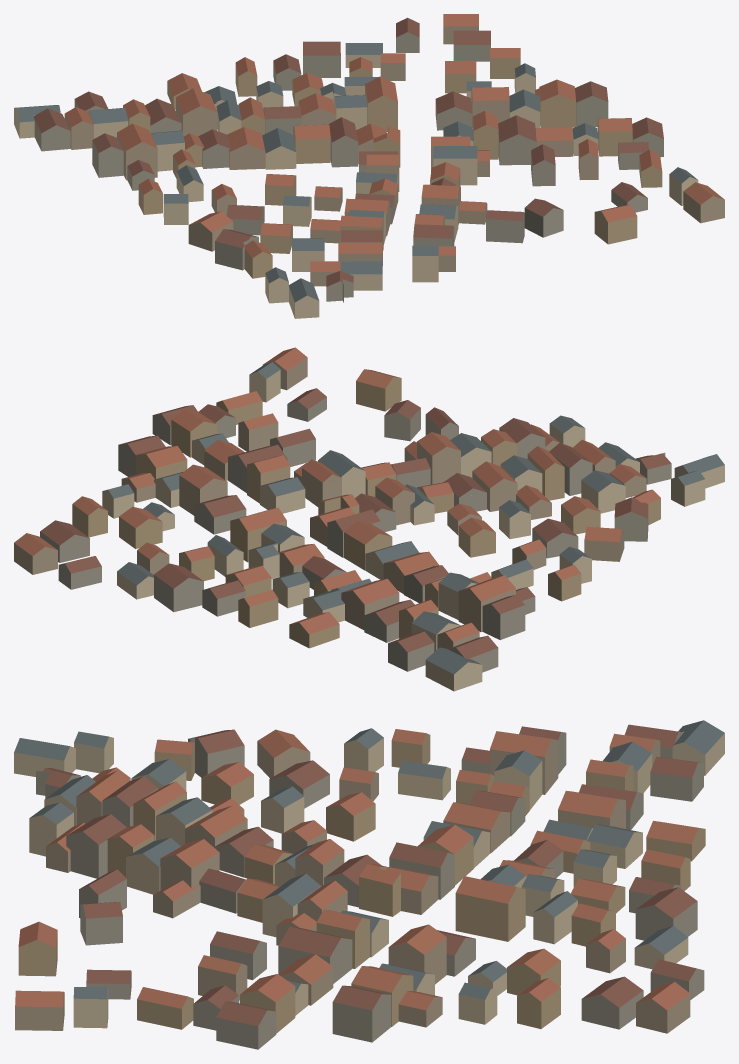
The picture shows the model from 3 angles, top to bottom: view 1: azimuth 30°, elevation 25°; view 2: azimuth 150°, elevation 25°; view 3: azimuth 270°, elevation 25°; orthographic projection. The views are drawn at different scales.
Parts seen in each view (by area): view 1: C_3_3; view 2: C_3_3; view 3: C_3_3.
Boxes of the visible parts, x1,y1,x2,y2 form: C_3_3: (14, 14, 724, 318); C_3_3: (14, 347, 724, 691); C_3_3: (14, 720, 724, 1049).
Size of the model in its own units: 194 by 14.33 by 193.
